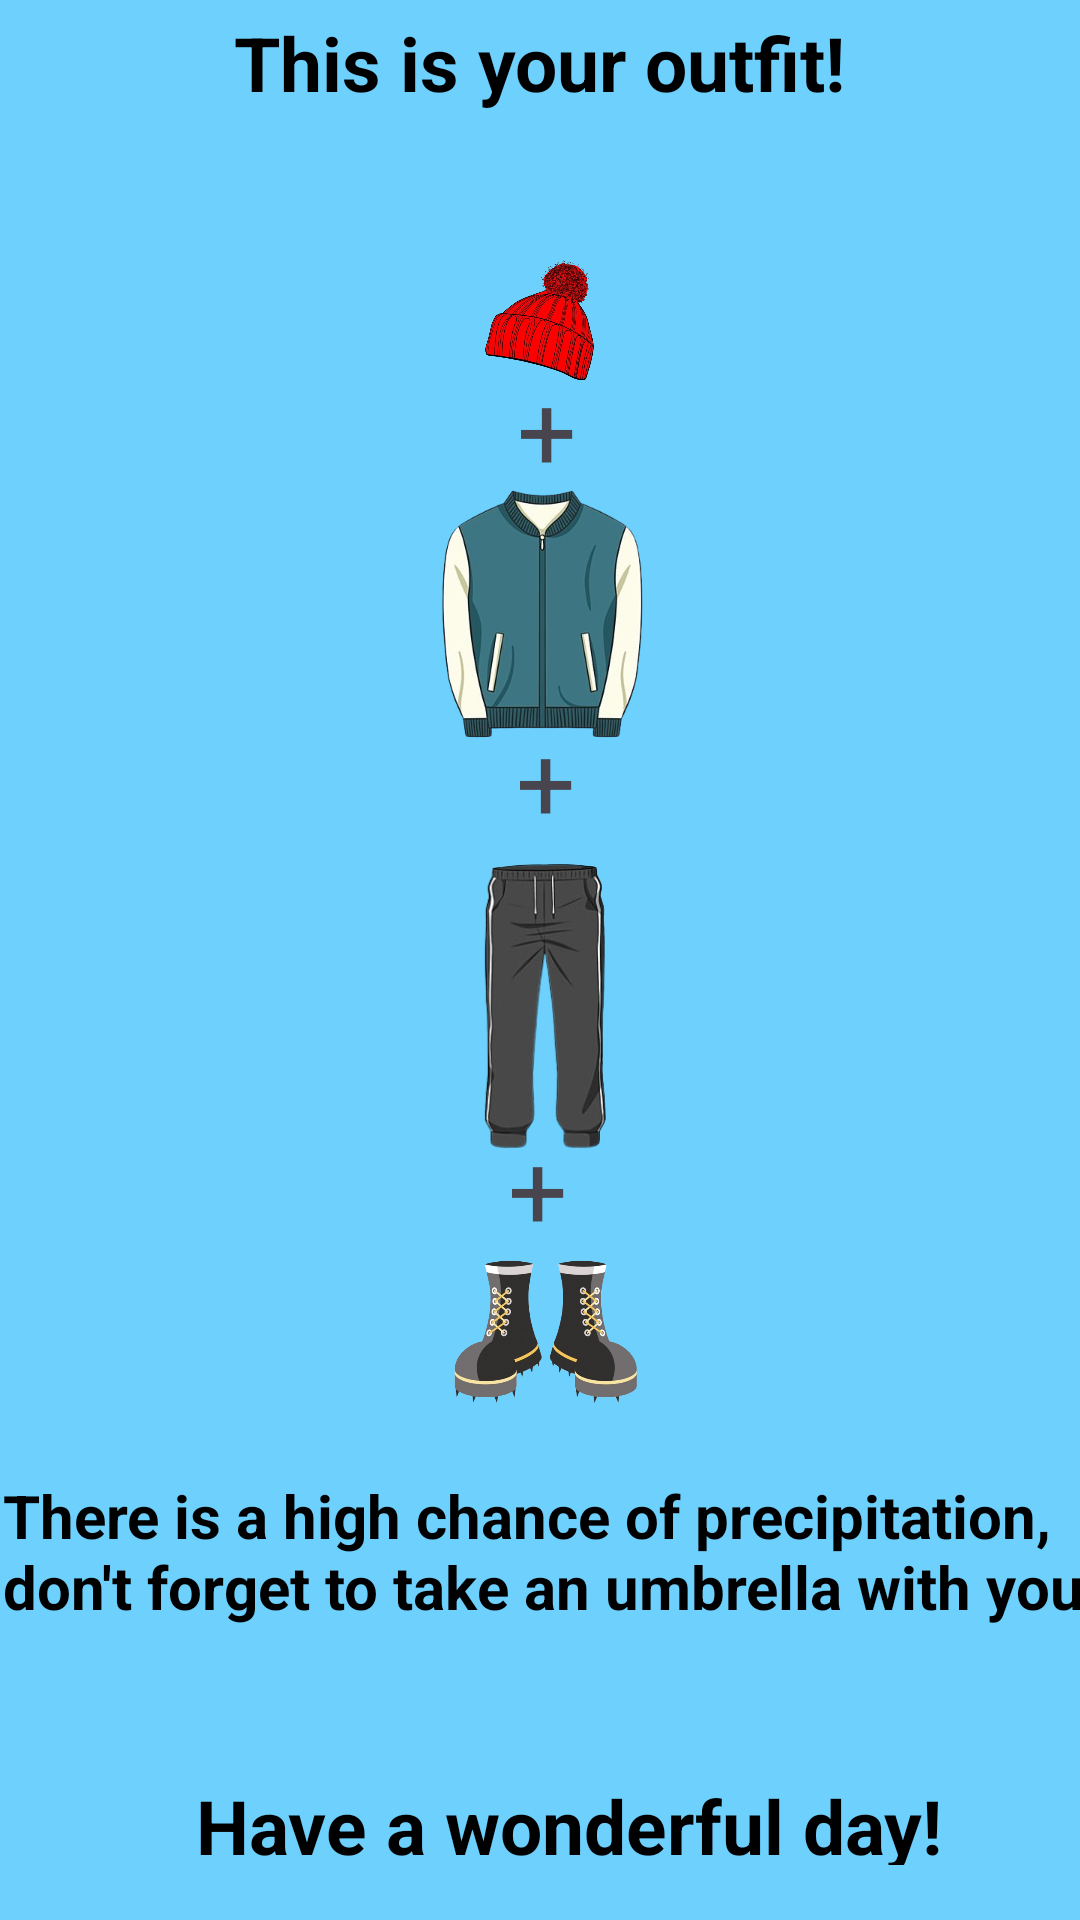

Where icons sit on this 1080px x 1920px app screen, as (x1, y1, x2, y2):
boots: (454, 1261, 637, 1403)
hat: (485, 260, 594, 380)
jacket: (442, 490, 643, 737)
pants: (484, 864, 606, 1148)
